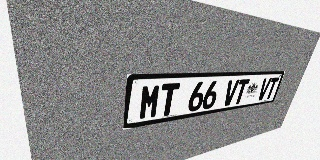6: (187, 81, 207, 112), (201, 81, 220, 110)
M: (138, 84, 162, 120)
T: (158, 83, 180, 117), (233, 79, 250, 105), (264, 77, 279, 99)
V: (222, 79, 240, 106), (256, 78, 272, 101)
